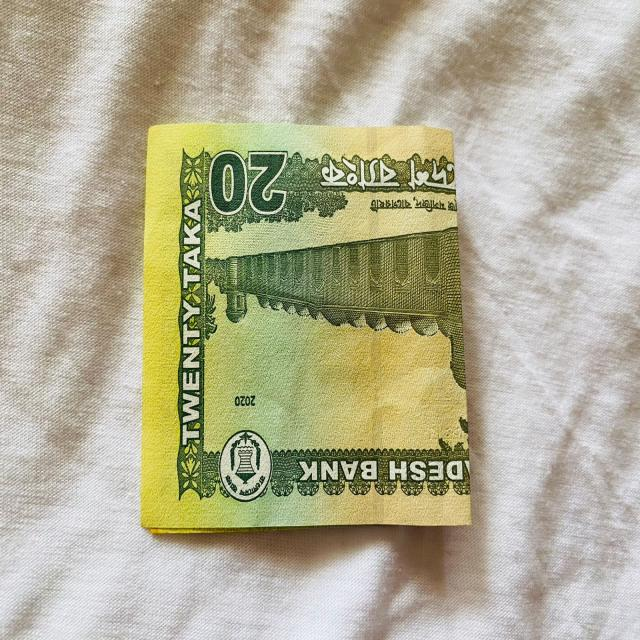Taka: (139, 105, 482, 545)
